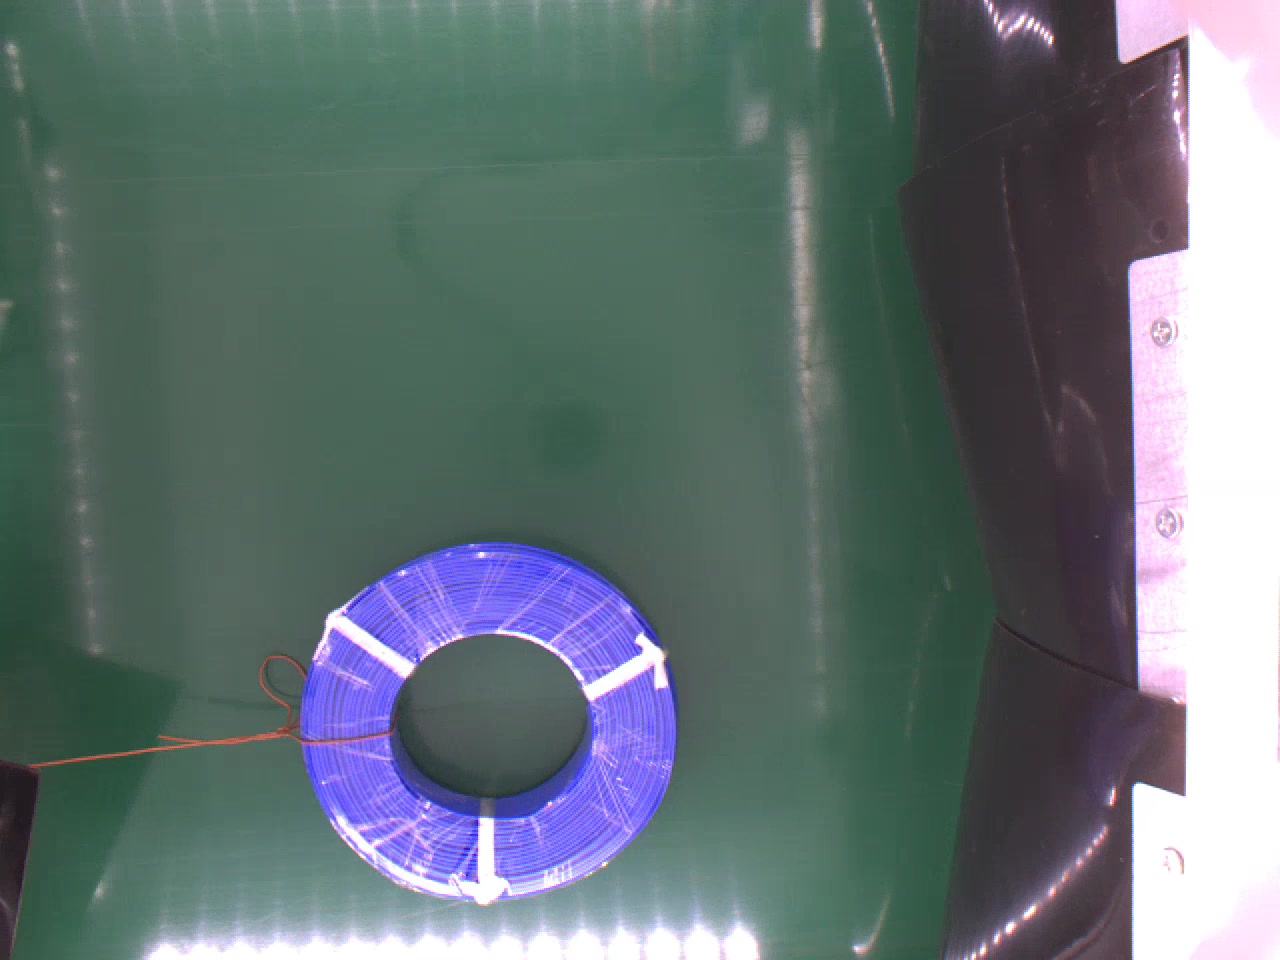blue: (292, 534, 675, 906)
